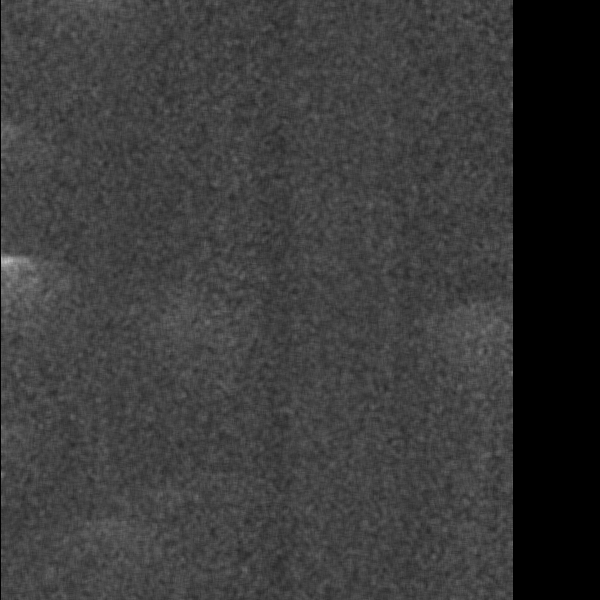spark: (272, 498, 380, 556), (75, 268, 134, 327)
